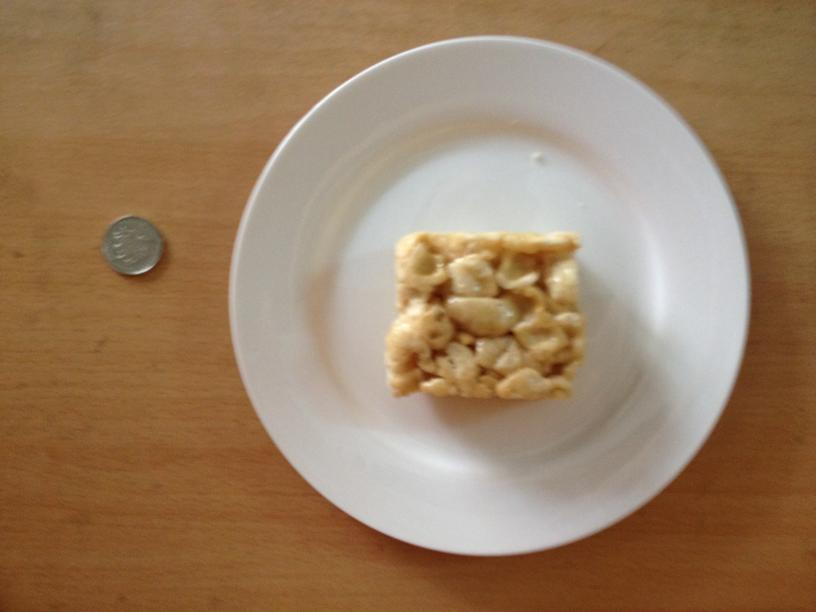coin: (98, 218, 159, 277)
sachima: (385, 234, 581, 400)
